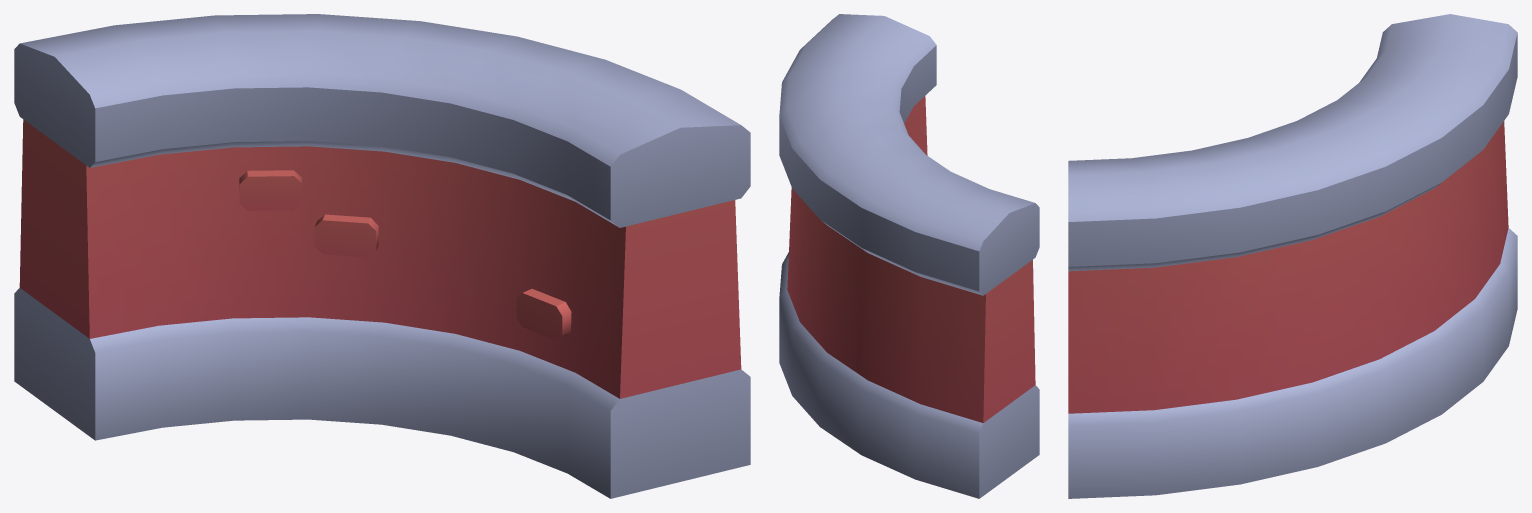
File: brick-wall-curve.glb
3 renders of one model, left to right at view 1: azimuth 30°, elevation 25°; view 2: azimuth 150°, elevation 25°; view 3: azimuth 270°, elevation 25°, orthographic. The views are drawn at different scales.
Visible parts, largest first — view 1: brick-wall-curve; view 2: brick-wall-curve; view 3: brick-wall-curve.
Part boxes in pixels (left/top/right/bottom): brick-wall-curve: left=14, top=14, right=750, bottom=498; brick-wall-curve: left=779, top=14, right=1039, bottom=498; brick-wall-curve: left=1068, top=14, right=1517, bottom=498.
Bounding box in the file's own units: 20 × 14.5 × 20.
Materials: 1 (1 with a texture image).
